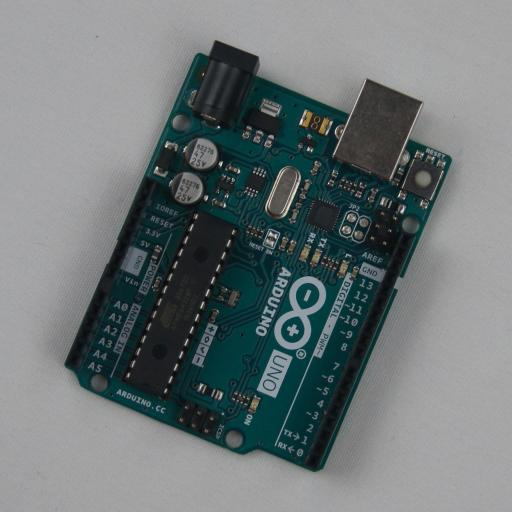Arduino Uno -Green-: (64, 40, 452, 472)
